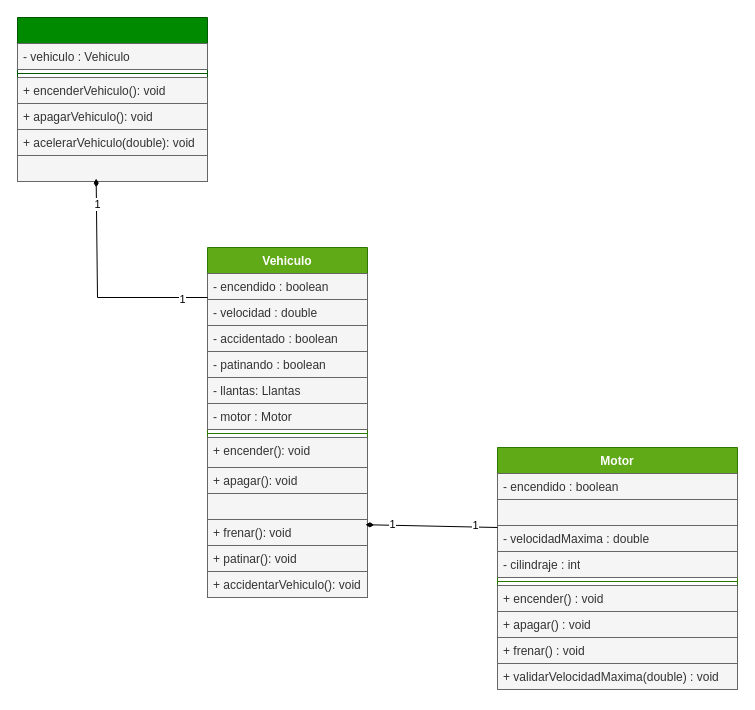
Some shapes in this 755 by 710 pixel diagram are drawn without their labels. Each missing label, with the box of its shape:
+ acelerar(double): void: (206, 492, 368, 520)
+ frenarVehiculo(double): void: (16, 154, 208, 182)
- frenar : boolean: (496, 498, 738, 526)
Simulador: (16, 16, 208, 182)
